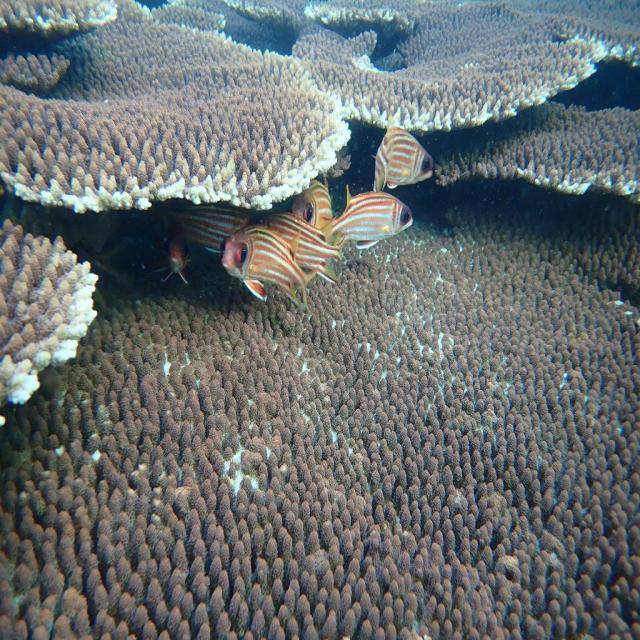Asker Baligi: (215, 236, 318, 318), (334, 185, 409, 246), (371, 124, 435, 192)
